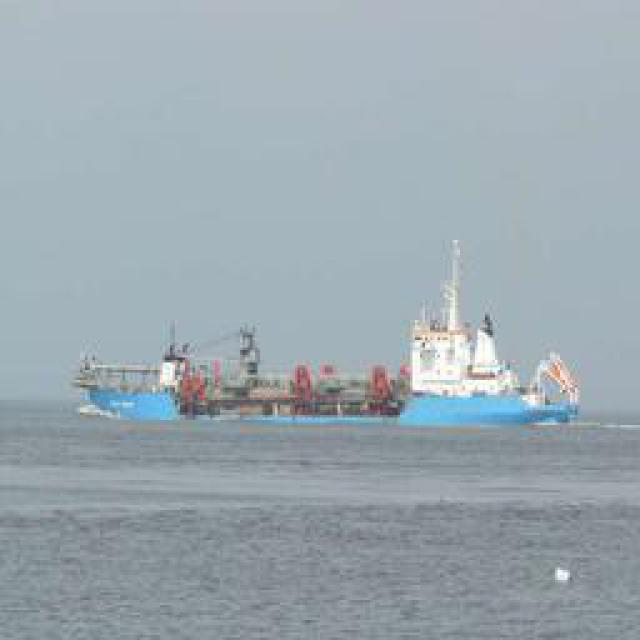Ship: (68, 240, 583, 440)
